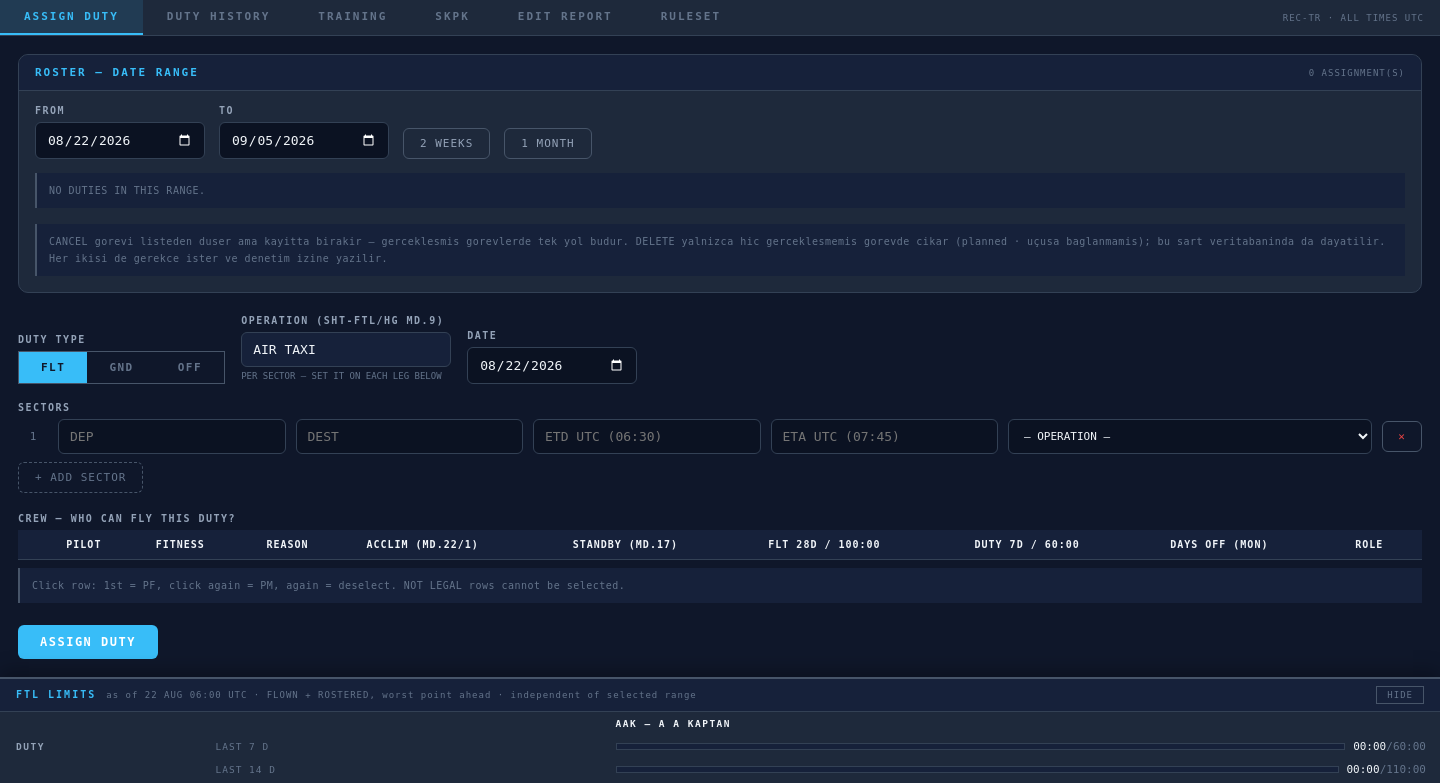
Scenario: DH ekrani › 🔴 ADD FLT DUTY gorevi UCUSA cevirir ve DH bacaklari KALIR
The width and height of the screenshot is (1440, 783).
Check: the button "ASSIGN DUTY" is shown, box [18,624,158,658]
Click the text "GND" at (122, 367), box [109,360,134,374]
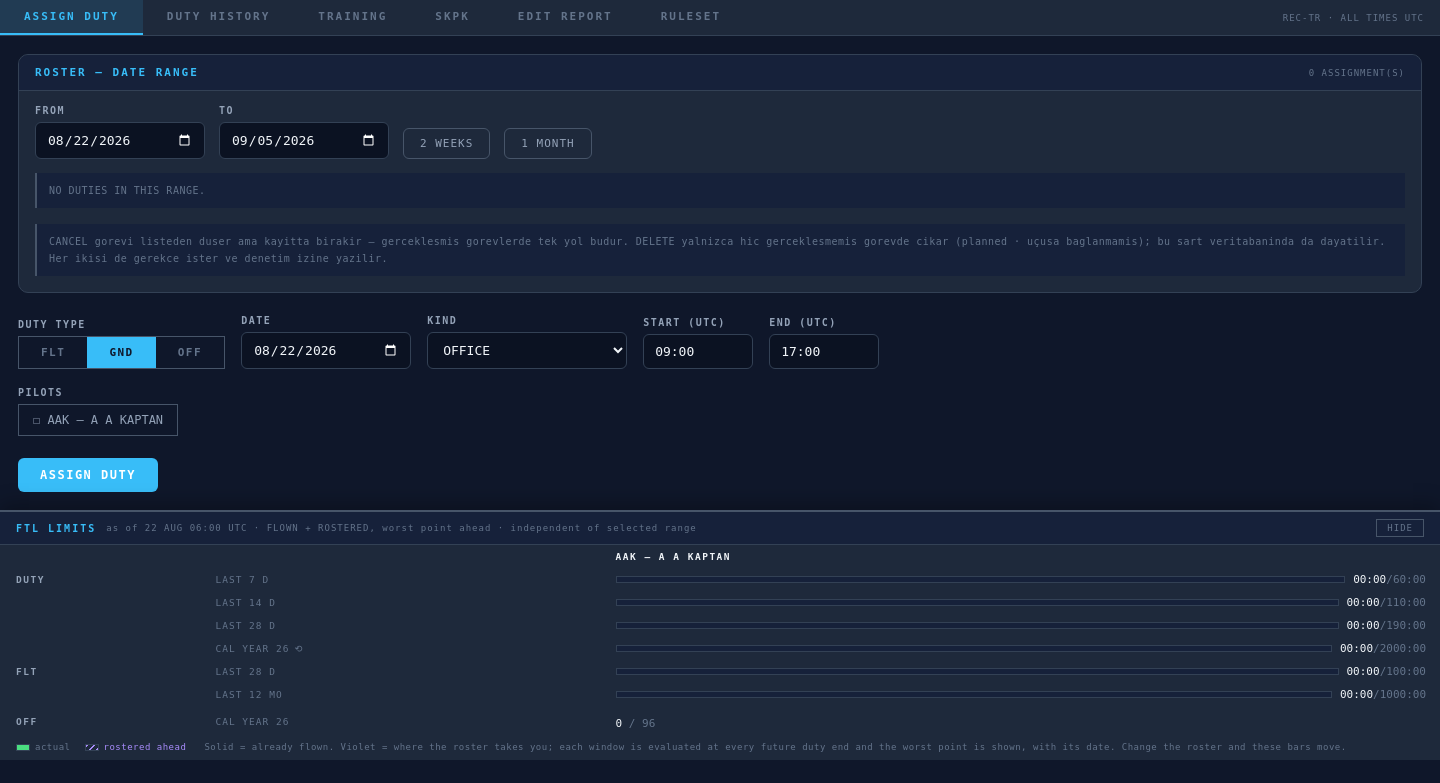
Select "DH — DEADHEAD / POSITIONING (Md.14)" in the dropdown at (527, 350), box [427,332,627,369]
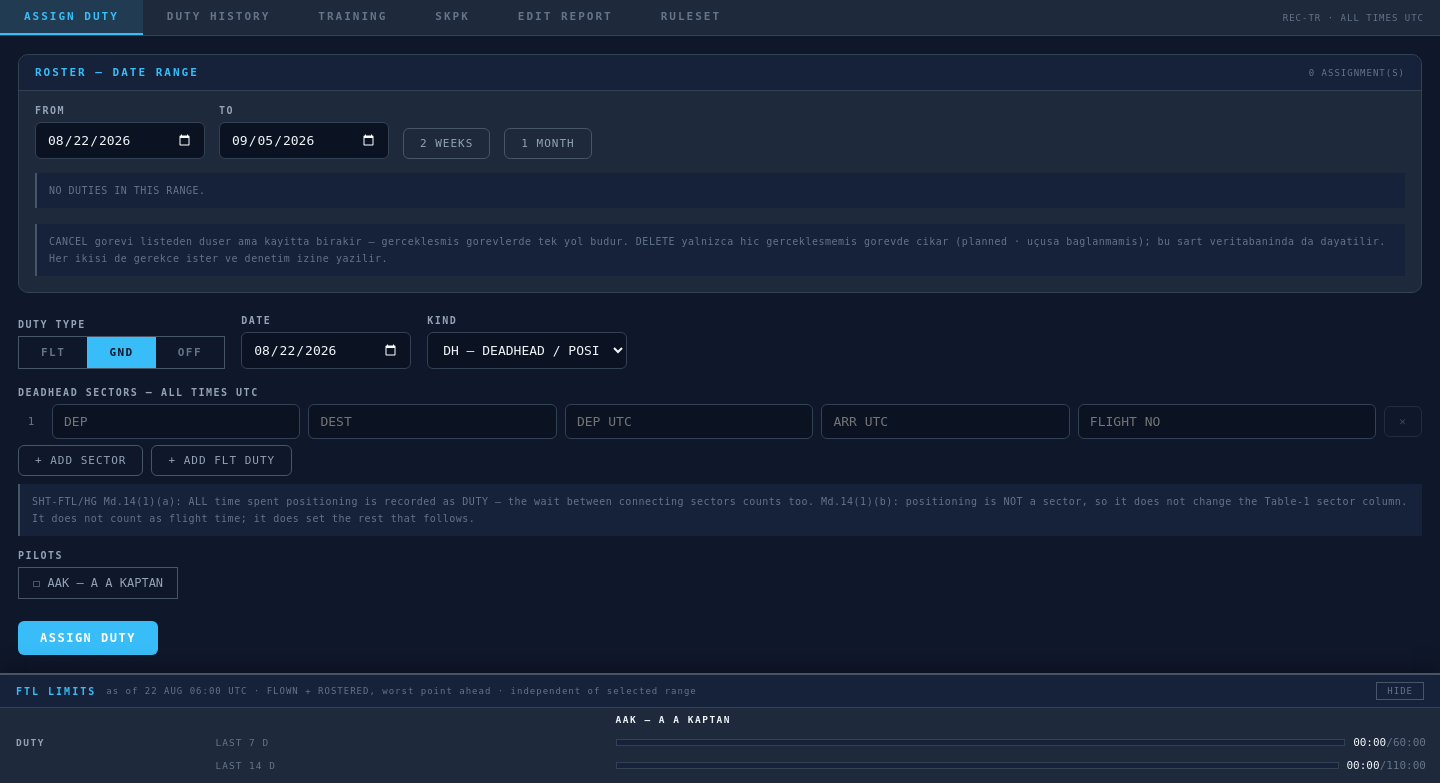
Type "LTAC" into the field with placeholder "DEP" at (176, 422), box [52,404,300,439]
Type "LTBA" into the field with placeholder "DEST" at (433, 422), box [308,404,557,439]
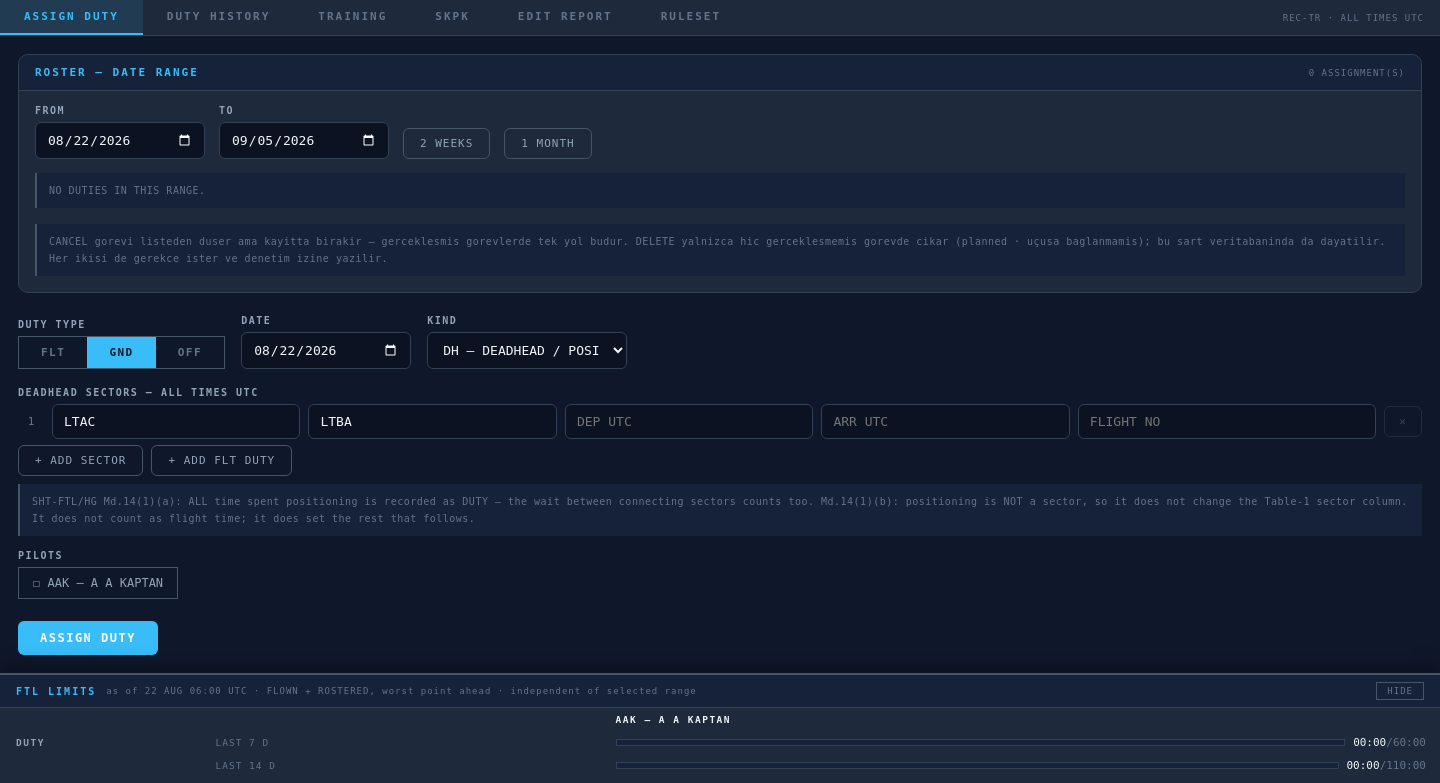
Type "08:00" into the field with placeholder "DEP UTC" at (689, 422), box [565,404,813,439]
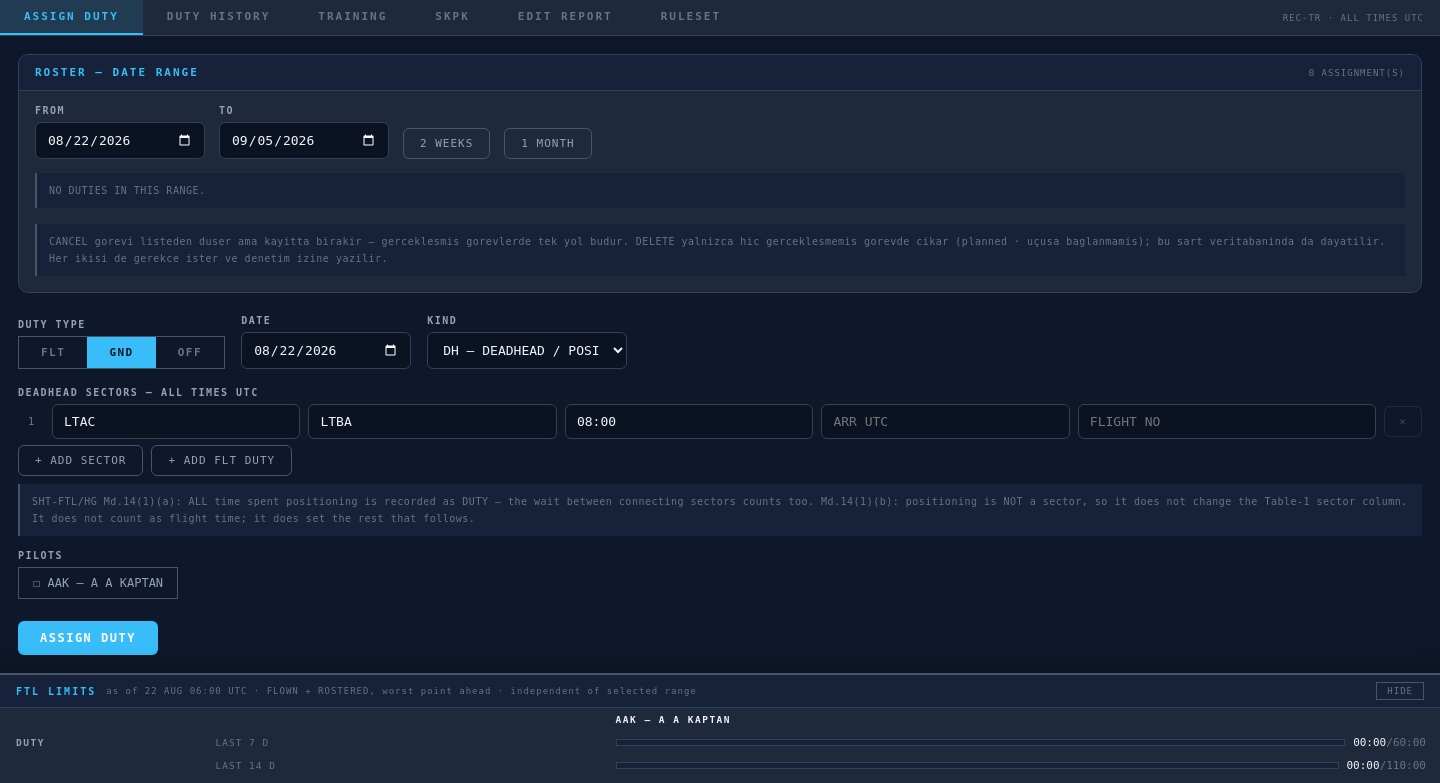
Type "09:30" into the field with placeholder "ARR UTC" at (946, 422), box [821,404,1070,439]
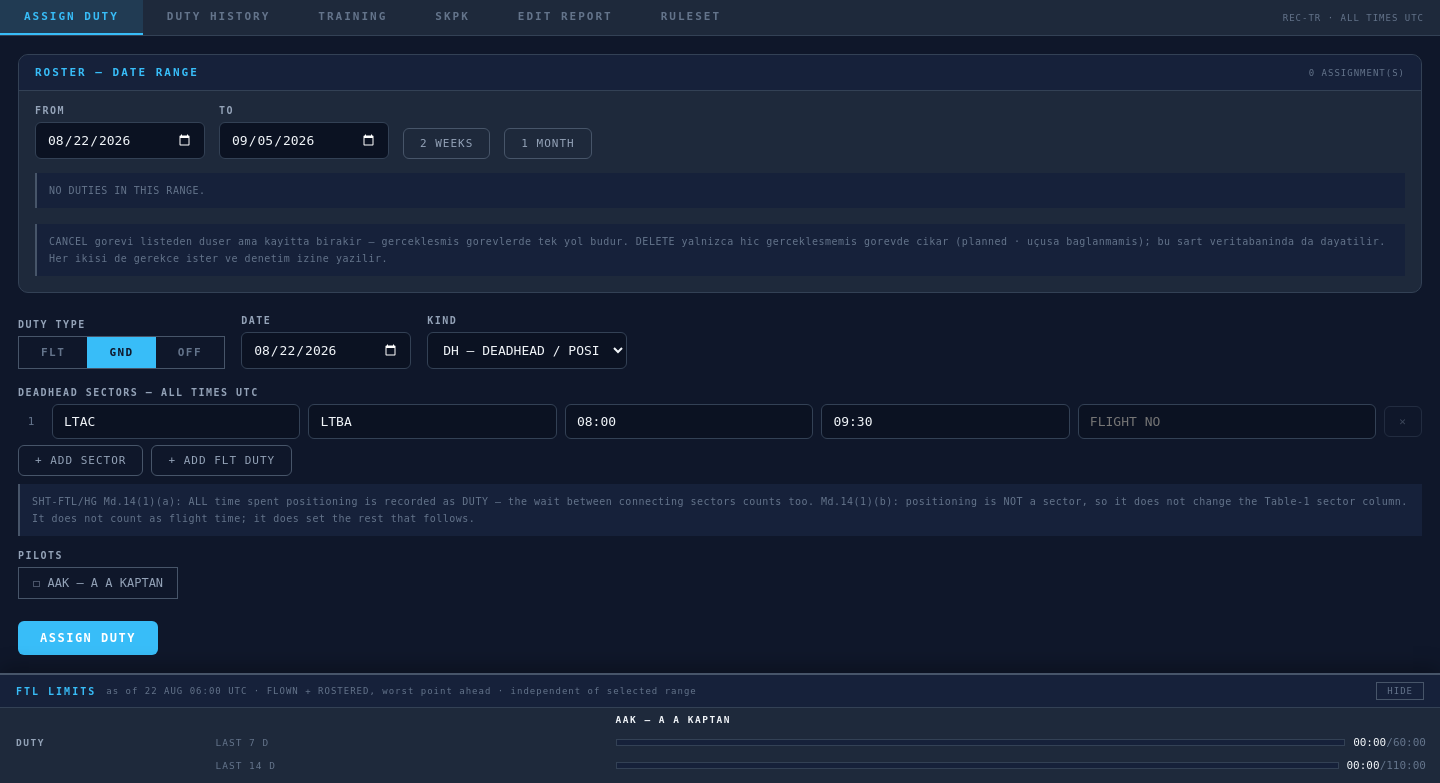
Click the button "+ ADD FLT DUTY" at (222, 460), box [152,445,292,476]
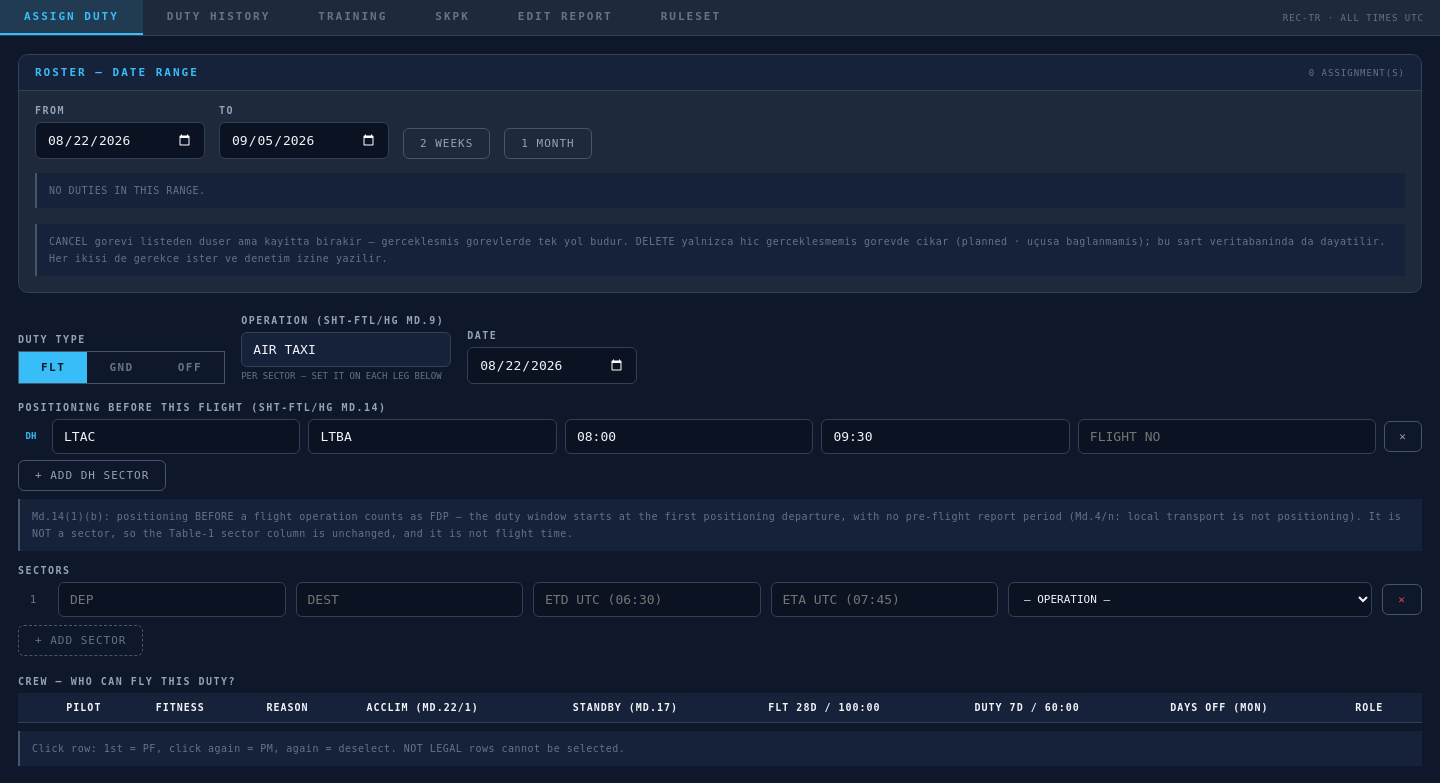
Check: the 1st field showing "LTAC" is shown, box [52,418,300,454]
Check: the field with placeholder "ETD UTC (06:30)" is shown, box [533,582,760,616]
Check: the text "Positioning before this flight (SHT-FTL/HG Md.14)" is shown, box [18,402,386,412]
